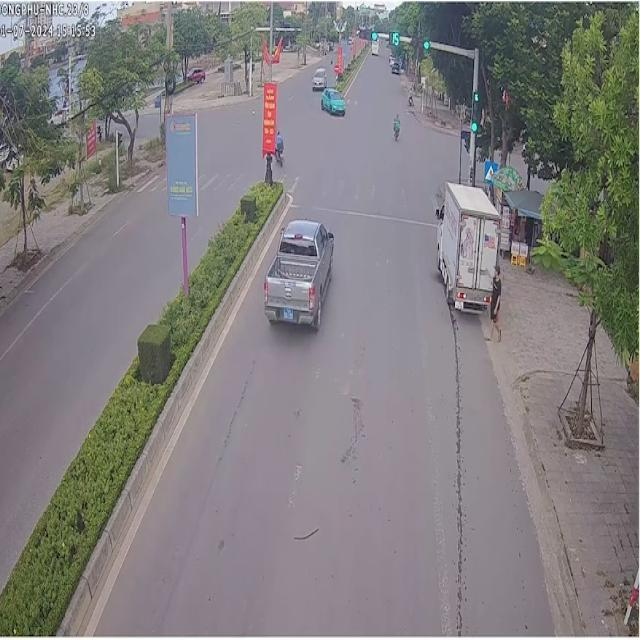car: (434, 180, 498, 309), (263, 217, 332, 328), (319, 86, 343, 113)
green_light: (469, 88, 479, 131), (356, 24, 376, 39)
motobike: (390, 113, 400, 145)
stop_line: (287, 202, 453, 228)
yellow_light: (382, 31, 387, 36)
